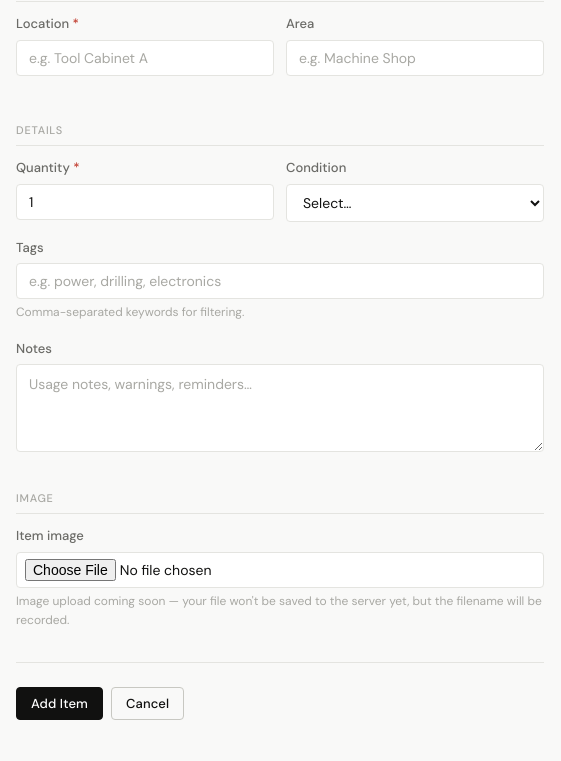
it: AddItemPage › shows validation errors for all required fields when submitted empty
(page scrolled)
Step 1. Click the button "Add Item" → (60, 704), box [16,687,103,720]
(page scrolled)
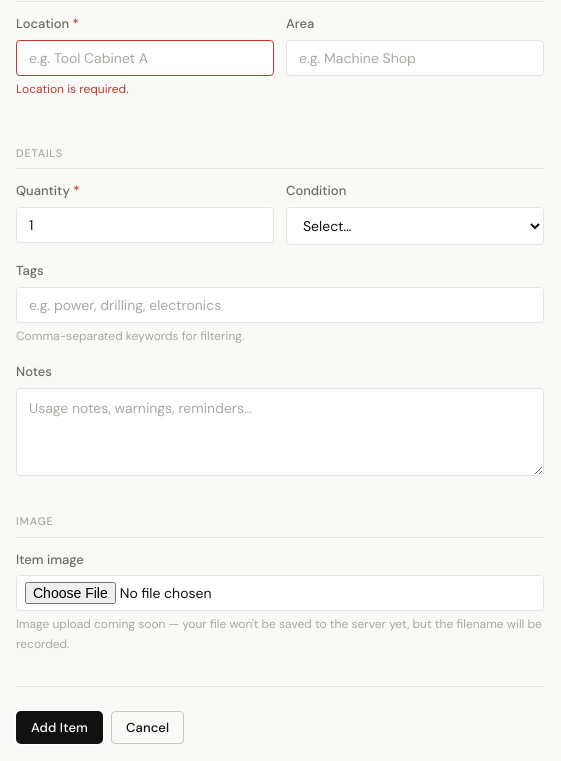
Expected: the text "Location is required." is shown, [16,81,128,97]
